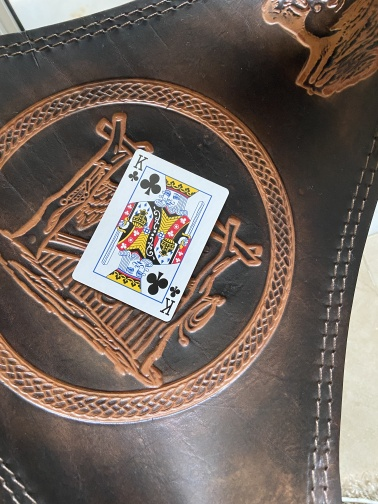king: (70, 147, 231, 323)
